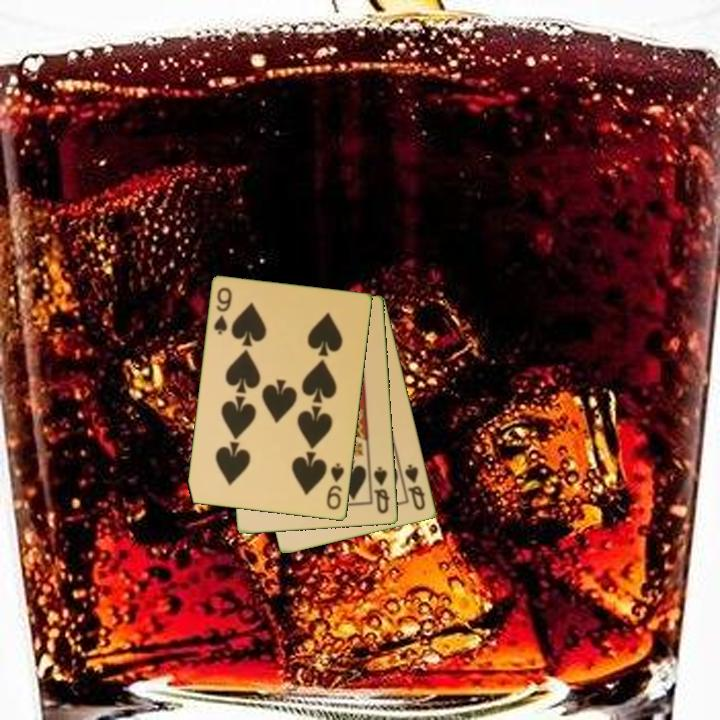9s: (211, 284, 235, 338), (323, 460, 347, 513)
Qs: (401, 461, 428, 514), (371, 463, 393, 517)
